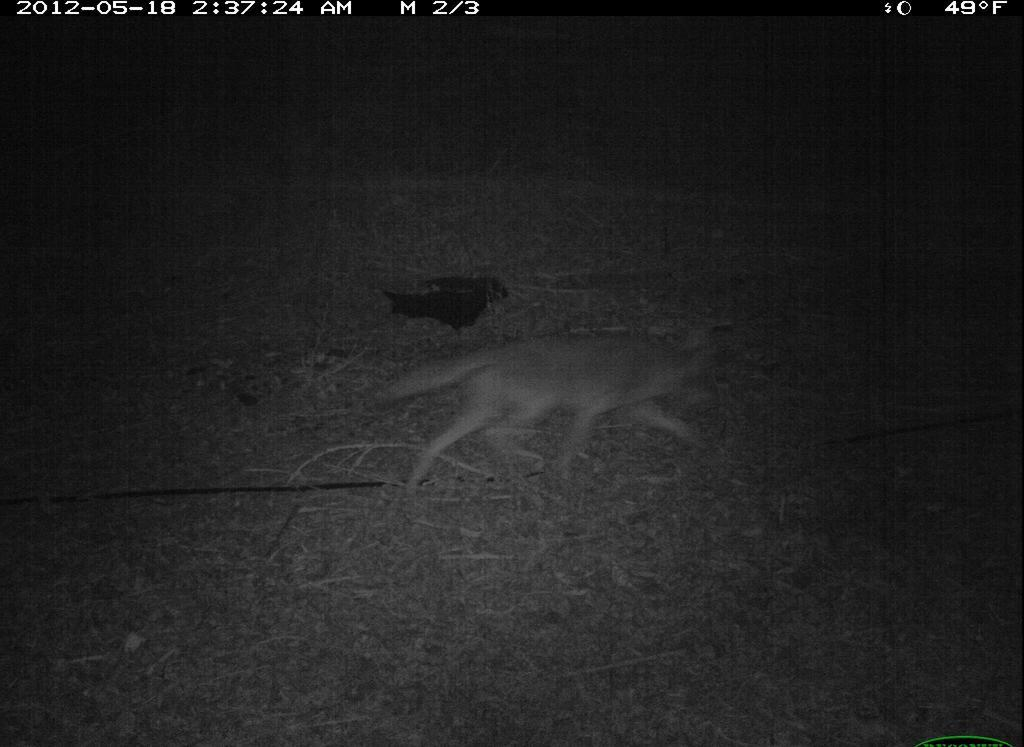coyote: (374, 313, 749, 521)
